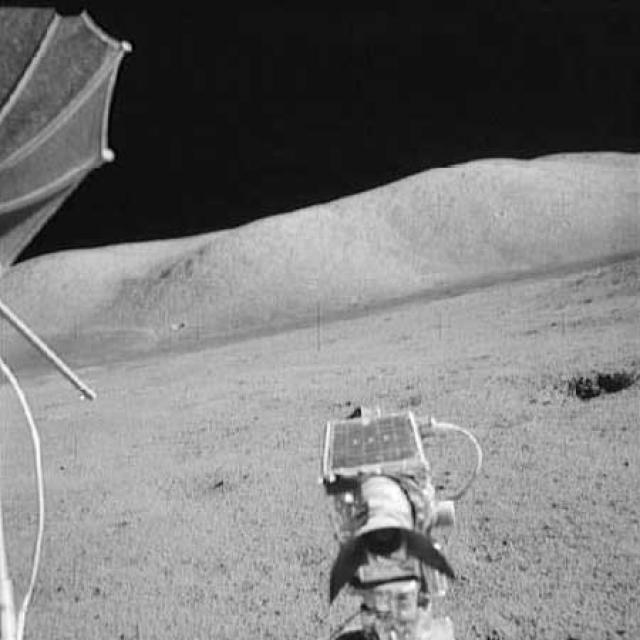artifact: (0, 0, 134, 639), (290, 401, 487, 639)
crater: (538, 361, 638, 404)
